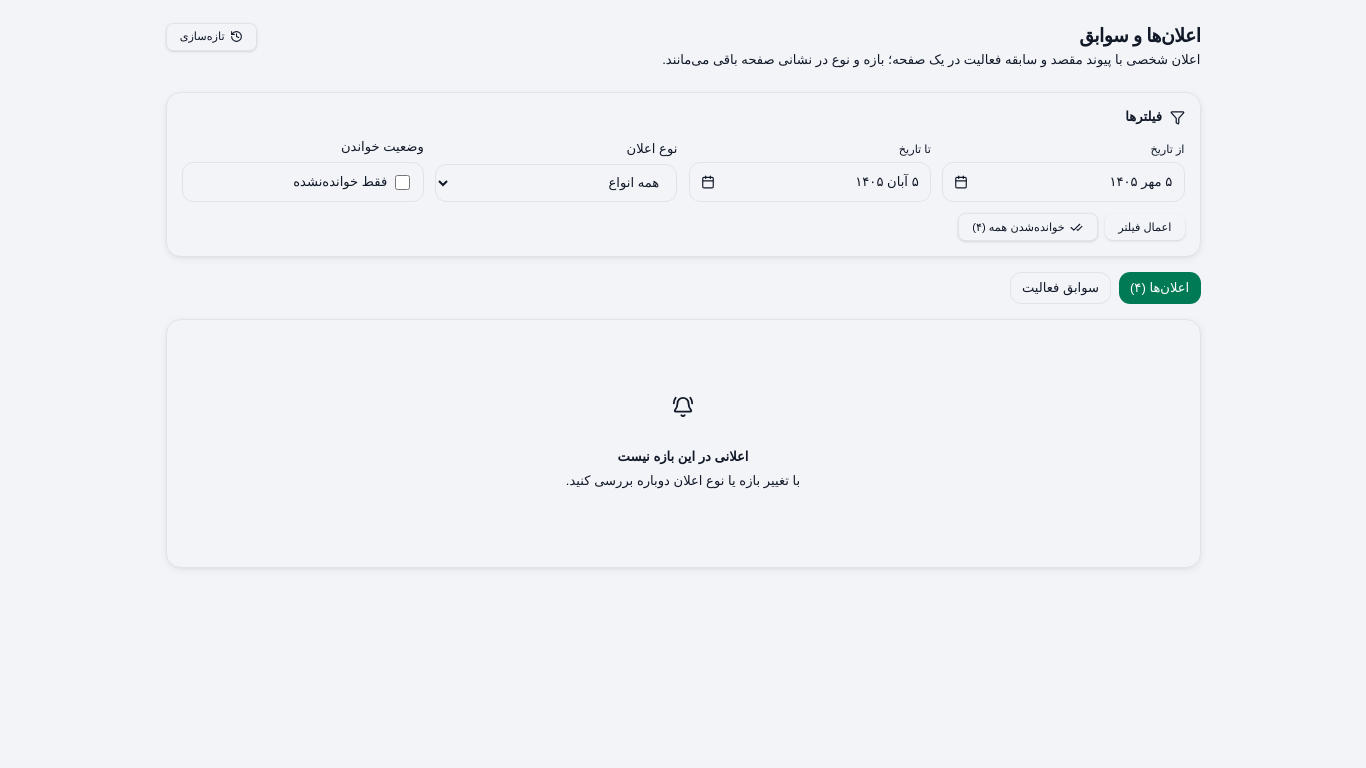
Test: NotificationsRecordsPage filter bar › blocks an inverted range, explains why, and does not query it
Expected: the text "از تاریخ" is shown, 1150,143 -> 1184,155
Click the button "۵ مهر ۱۴۰۵" at (1063, 182), box 942,162 -> 1184,202
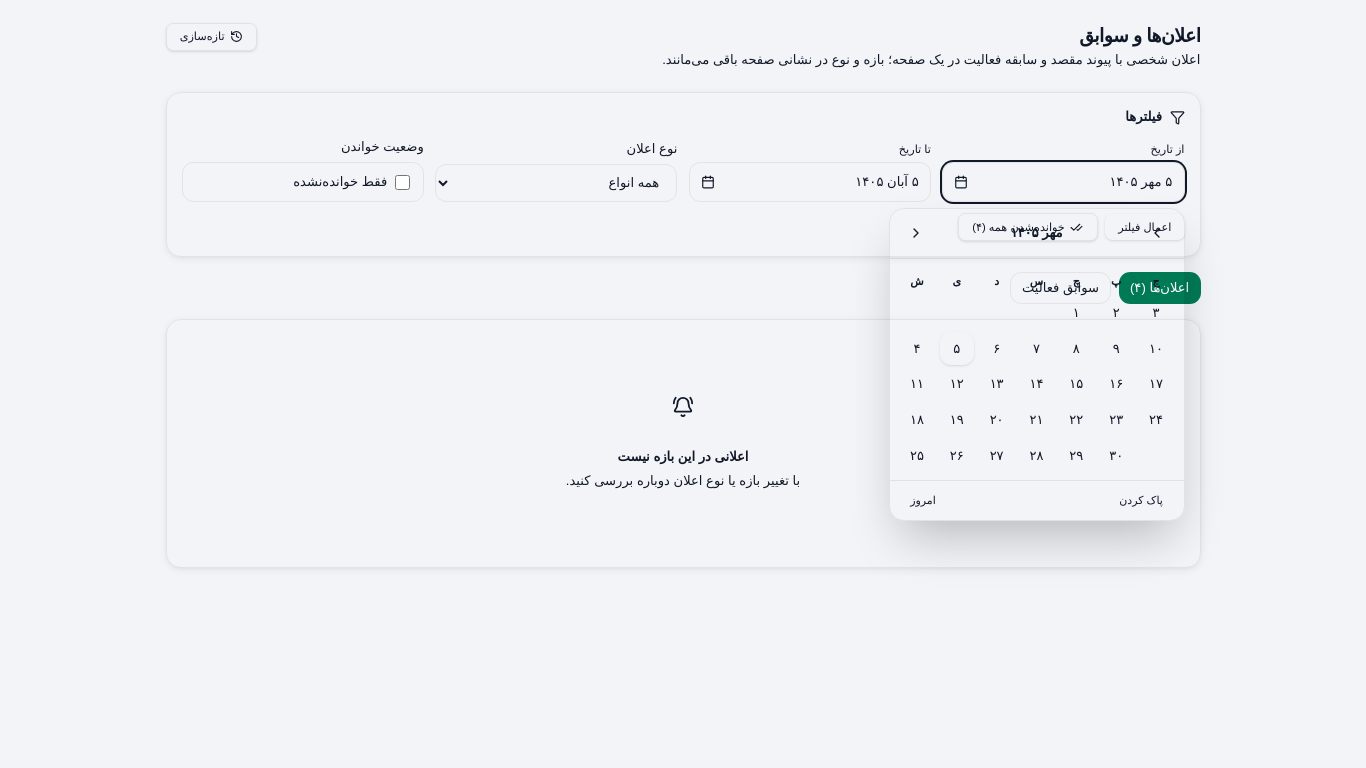
Click the button "۳۰" at (1116, 455), box 1099,438 -> 1133,472
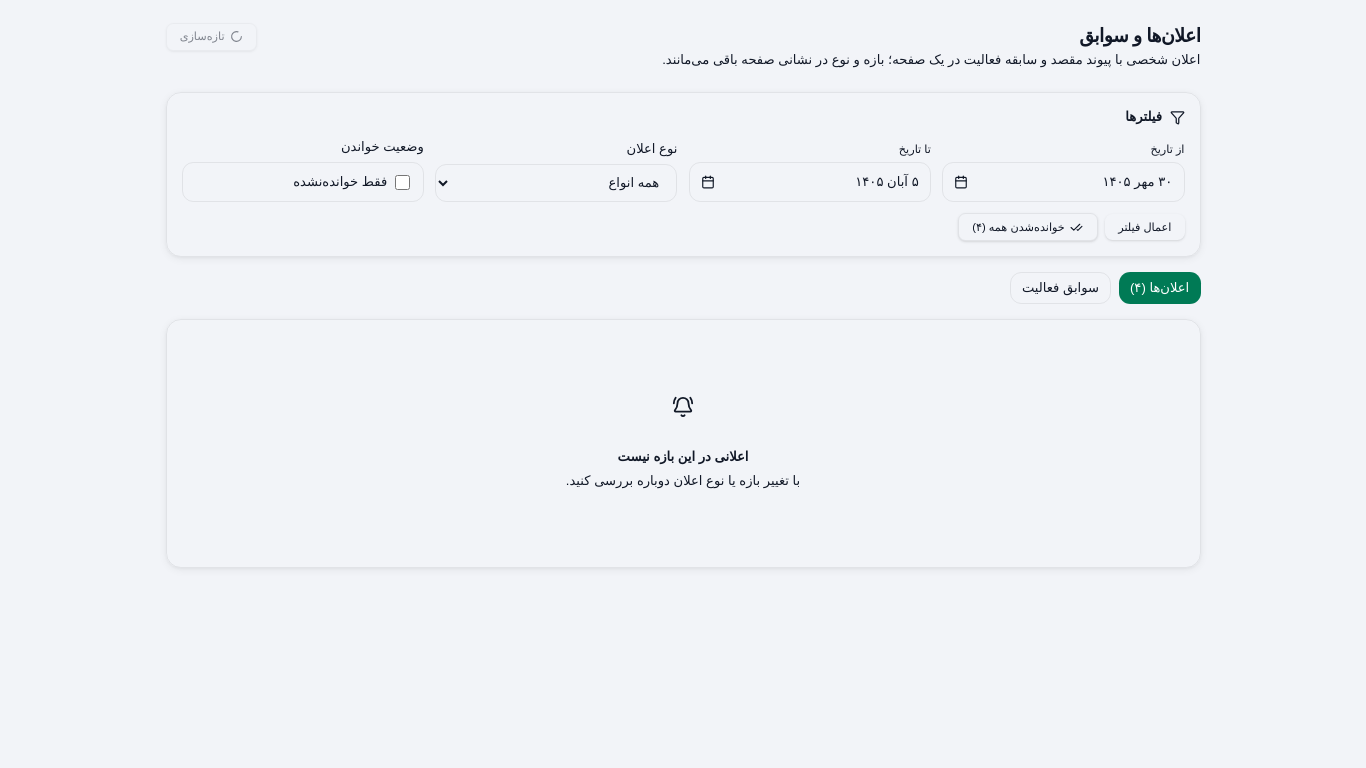
Click the button "۵ آبان ۱۴۰۵" at (810, 182), box 689,162 -> 931,202
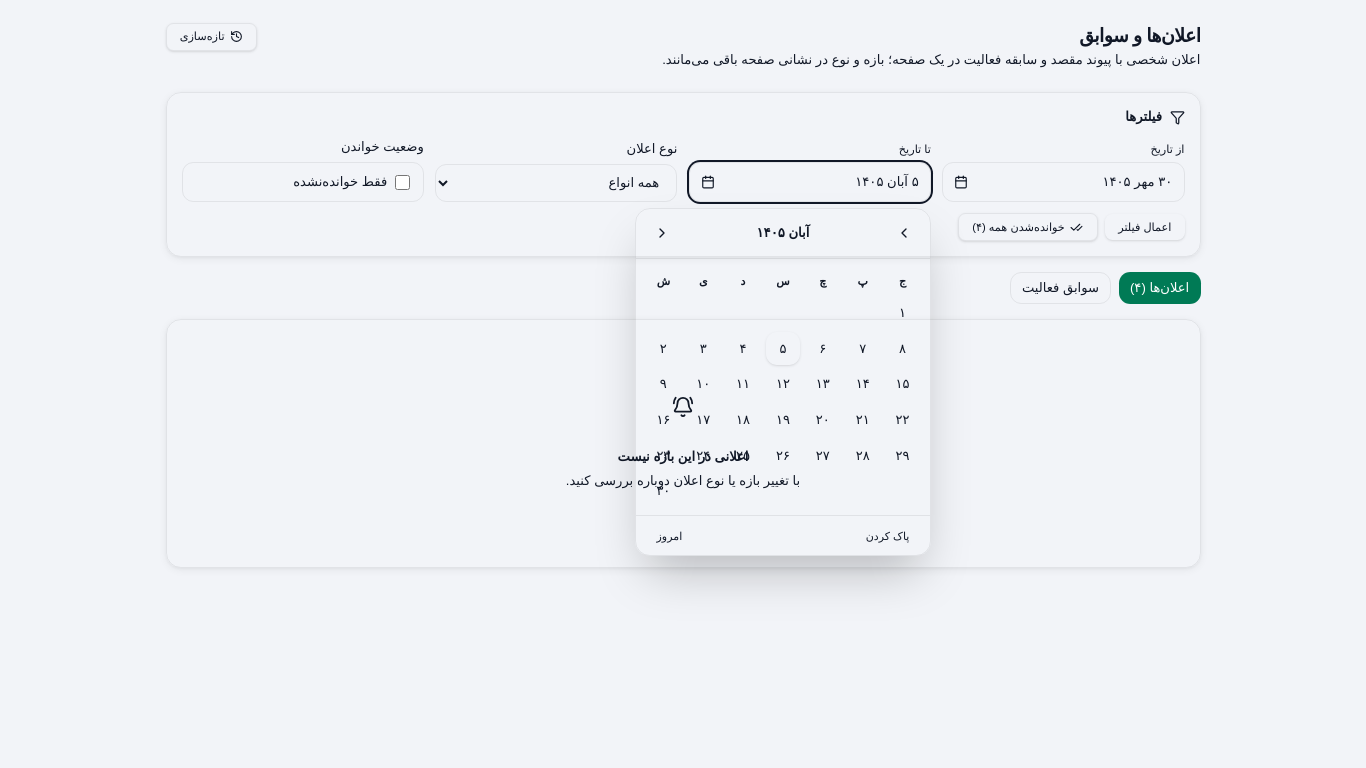
Now the button named "ماه قبل" is shown
Click the button named "ماه قبل" at (662, 233), box 647,218 -> 677,248
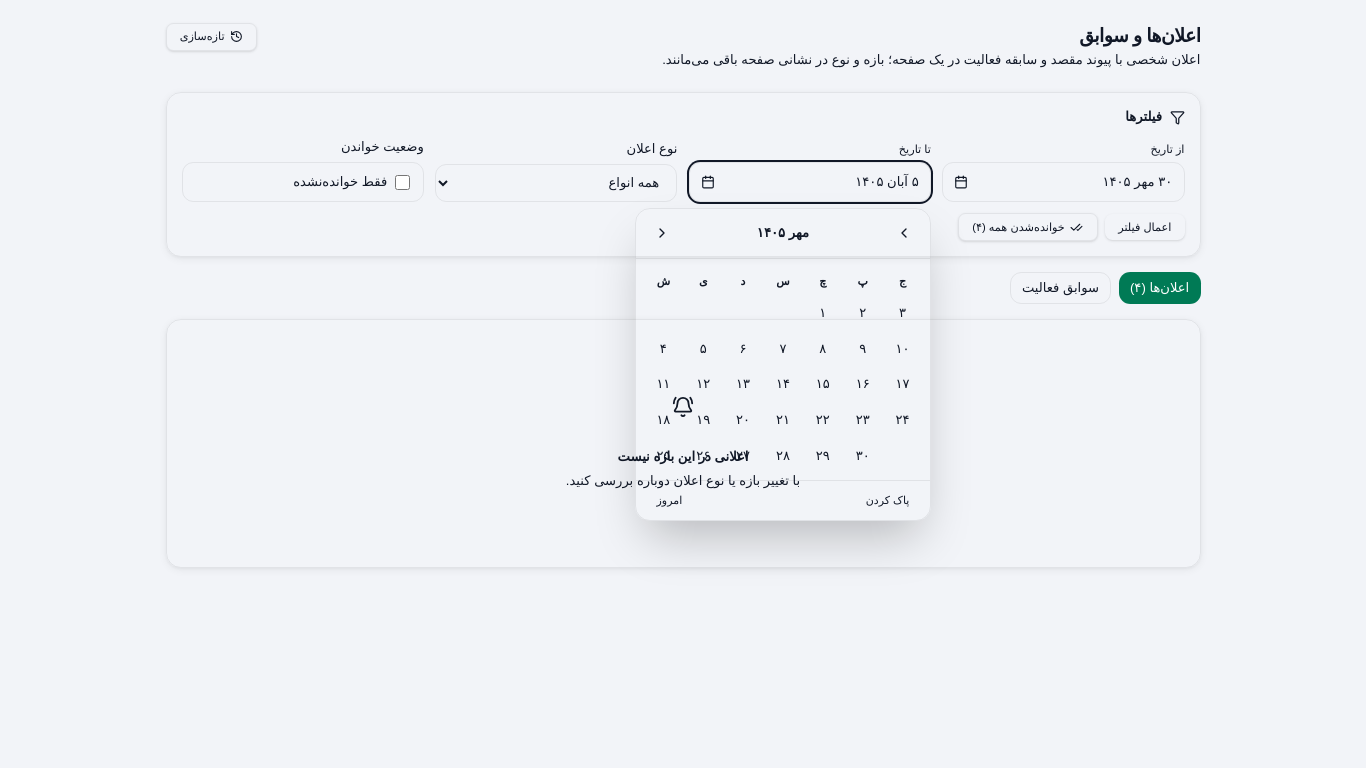
Now the button "۱" is shown
Click the button "۱" at (823, 313), box 806,296 -> 840,330
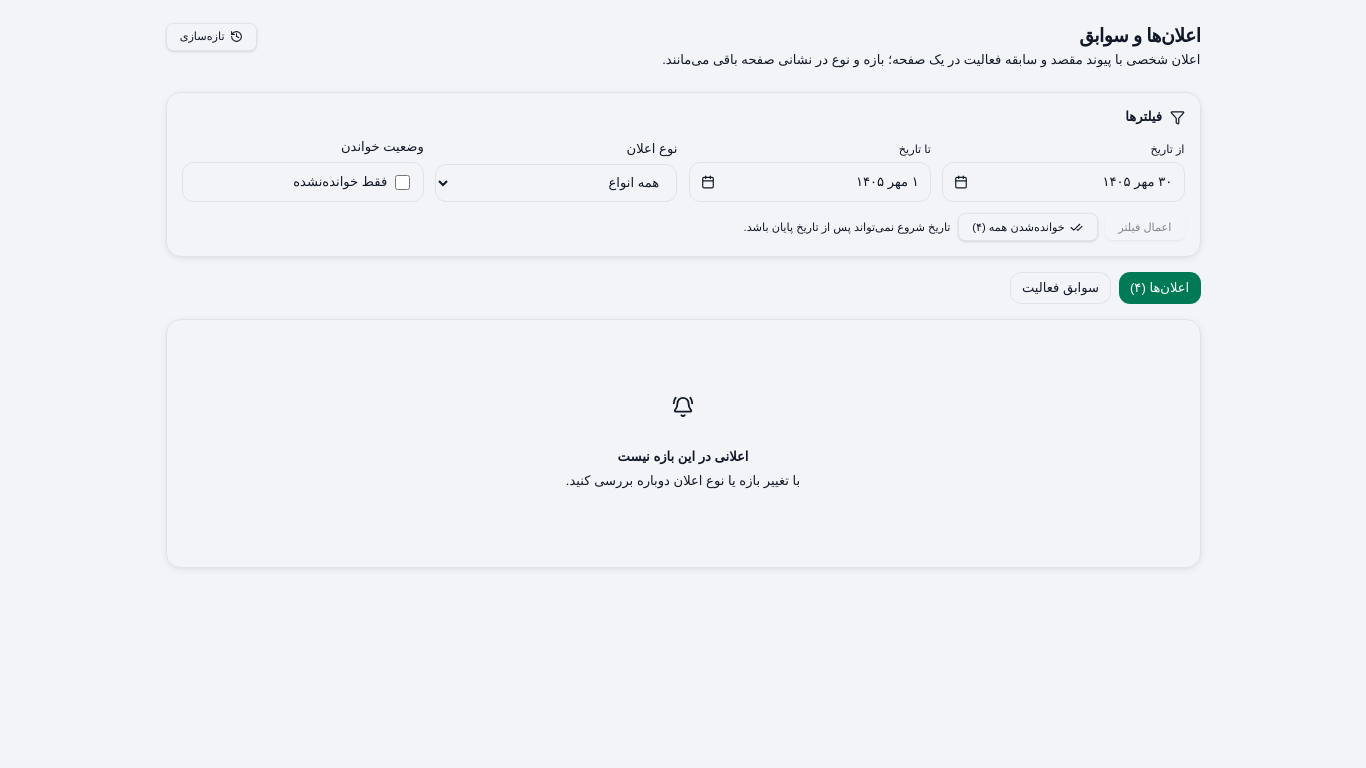
Now the message reads "تاریخ شروع نمی‌تواند پس از تاریخ پایان باشد.", box 744,221 -> 950,233
Now the button "اعمال فیلتر" is disabled, box 1105,214 -> 1184,240
